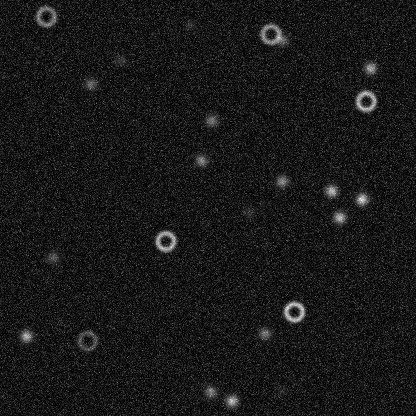Ring: (282, 299, 306, 323), (153, 228, 177, 252), (353, 89, 377, 113), (75, 328, 99, 352), (258, 22, 282, 46), (33, 4, 57, 28)
Spot: (82, 75, 98, 91), (182, 16, 198, 32), (323, 182, 339, 198), (274, 32, 290, 48), (362, 59, 378, 75), (256, 325, 272, 341), (45, 249, 61, 265), (203, 112, 219, 128), (353, 191, 369, 207), (18, 328, 34, 344), (273, 173, 289, 189), (223, 392, 239, 408), (241, 204, 257, 220), (331, 209, 347, 225), (202, 383, 218, 399), (112, 52, 128, 68), (272, 382, 288, 398), (193, 152, 209, 168)
